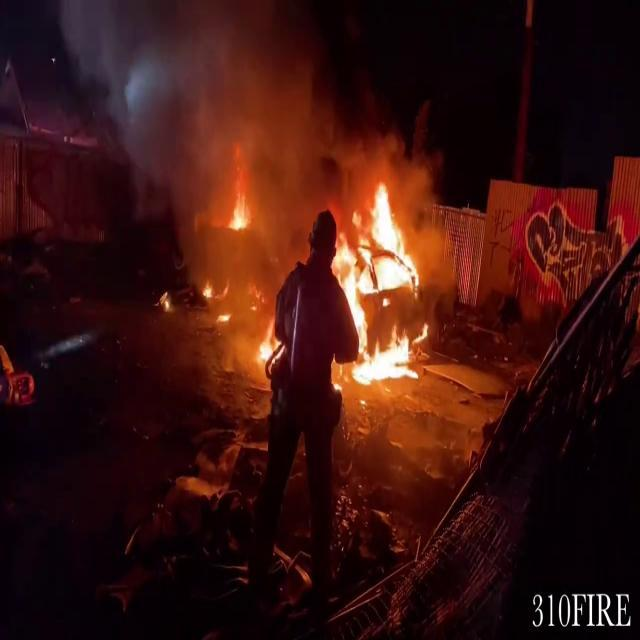Fire: (332, 176, 430, 386), (254, 308, 284, 370), (226, 184, 252, 237)
Smoke: (93, 2, 394, 216)
